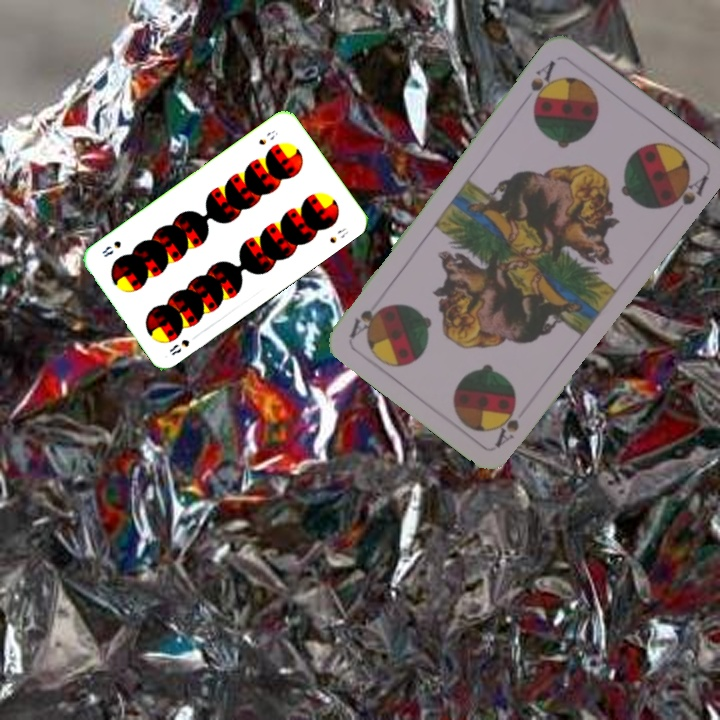S8: (165, 335, 192, 358), (255, 126, 281, 148)
SA: (526, 56, 559, 111), (490, 398, 522, 450)
